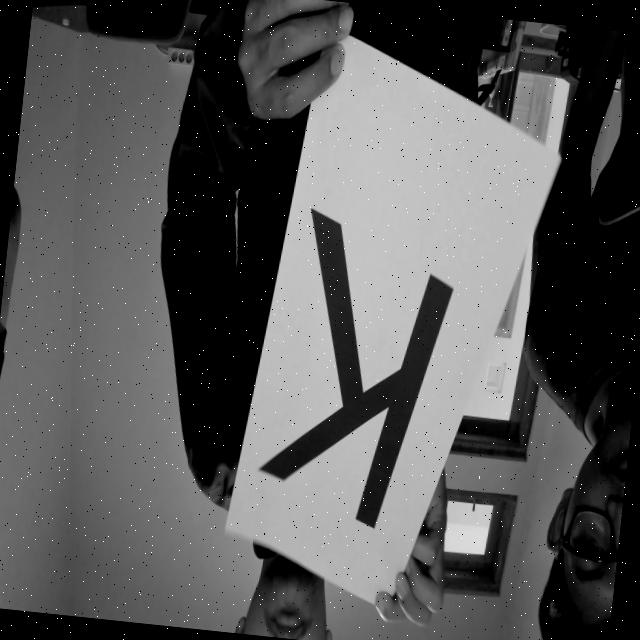k: (238, 160, 491, 566)
